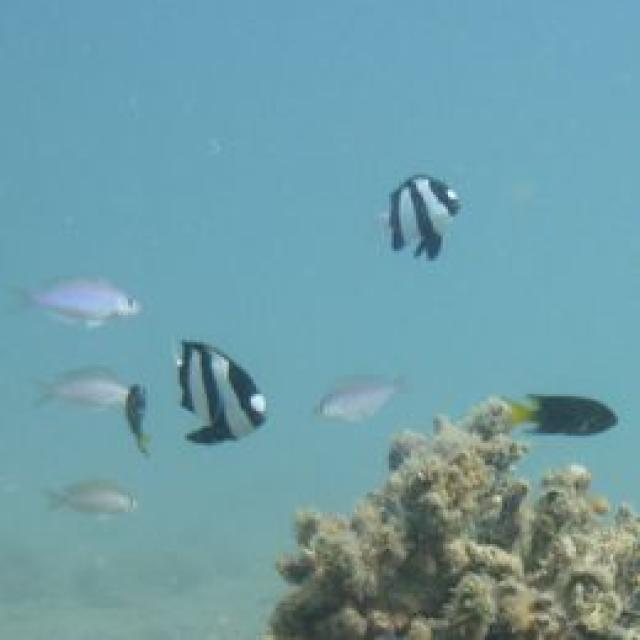ThreeStripedDamselfish: (175, 340, 268, 448), (384, 175, 463, 263)
